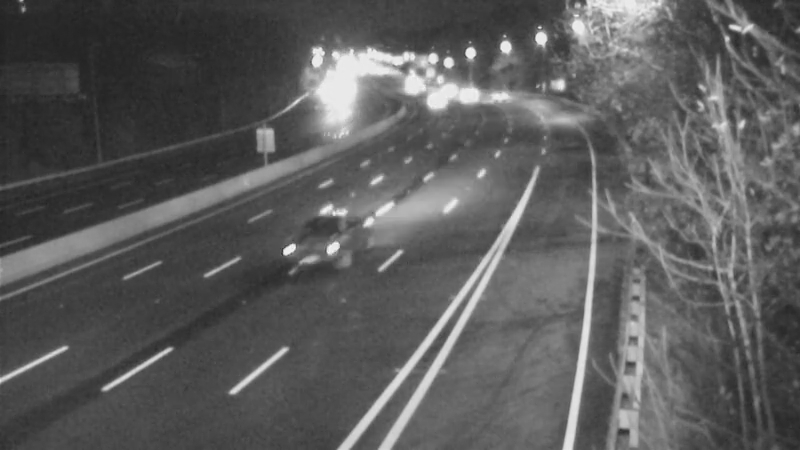vehicle: (269, 201, 349, 281), (402, 74, 452, 124), (475, 74, 525, 124)
